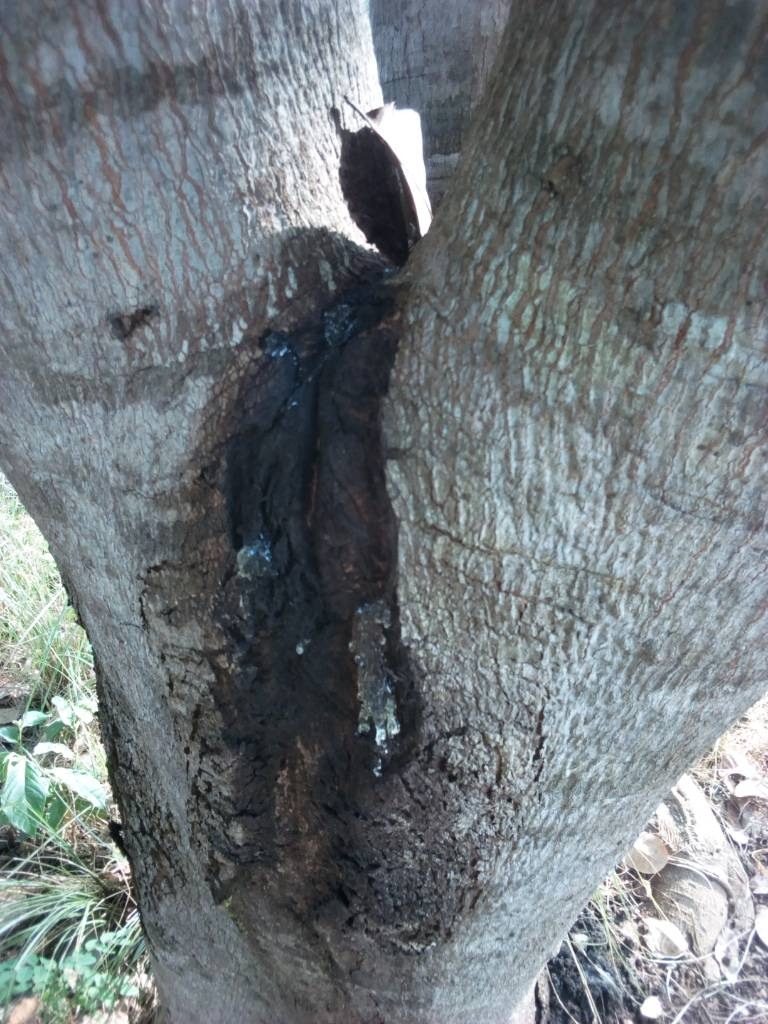Gommose: (202, 294, 394, 936)
